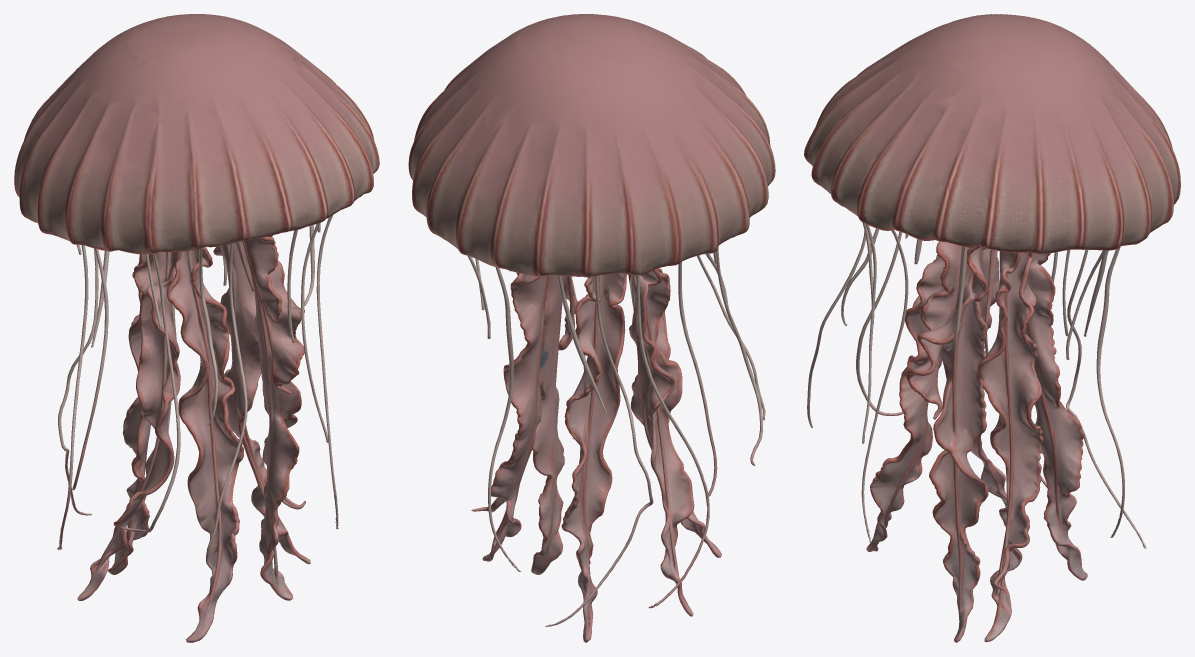
File: jelly.glb
3 renders of one model, left to right at view 1: azimuth 30°, elevation 25°; view 2: azimuth 150°, elevation 25°; view 3: azimuth 270°, elevation 25°, orthographic.
Parts seen in each view (by area): view 1: tripo_node_d184716e-f848-41a2-87f4-a25a35358fce; view 2: tripo_node_d184716e-f848-41a2-87f4-a25a35358fce; view 3: tripo_node_d184716e-f848-41a2-87f4-a25a35358fce.
Boxes of the visible parts, x1=… form: tripo_node_d184716e-f848-41a2-87f4-a25a35358fce: x1=14, y1=14, x2=379, y2=642; tripo_node_d184716e-f848-41a2-87f4-a25a35358fce: x1=408, y1=14, x2=775, y2=642; tripo_node_d184716e-f848-41a2-87f4-a25a35358fce: x1=804, y1=14, x2=1180, y2=642.
Size of the model in its own units: 0.2887 by 0.5 by 0.2968.
1 material, 1 textured.
